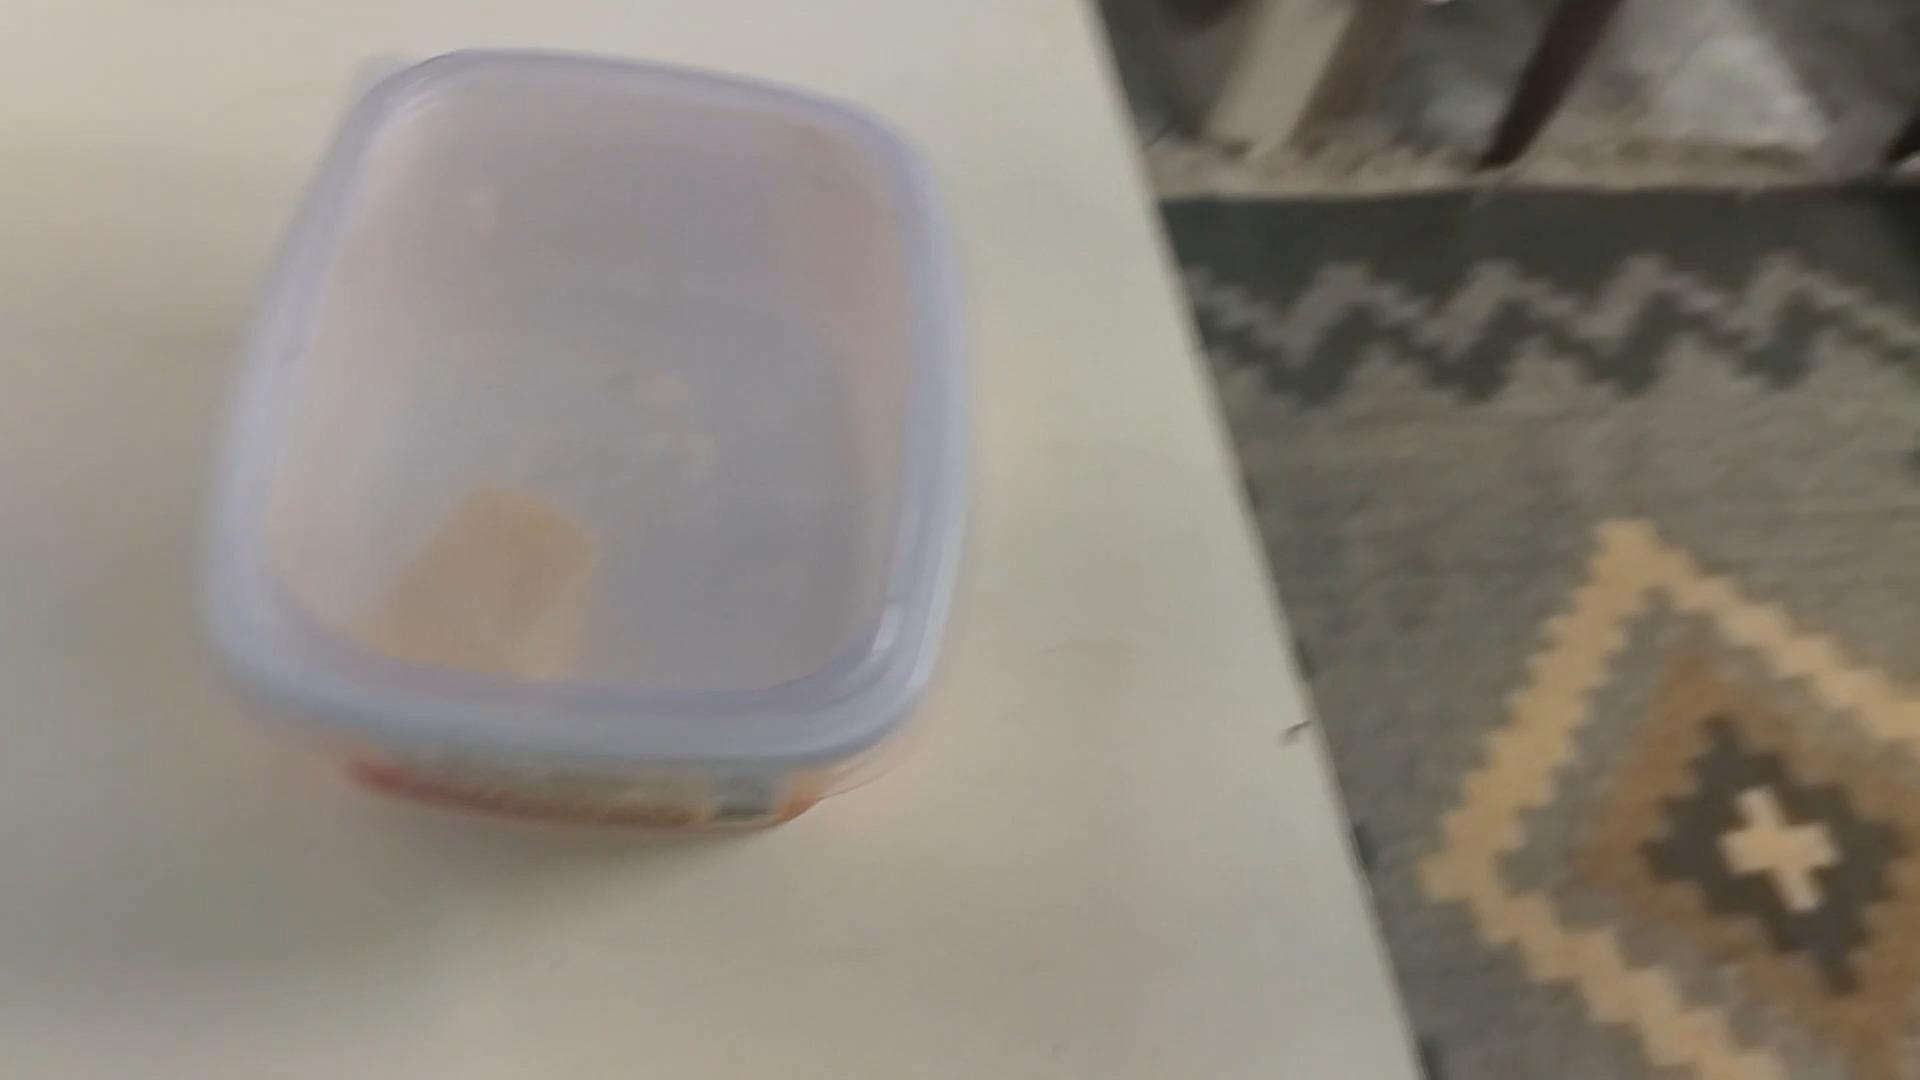butter: (196, 49, 960, 840)
